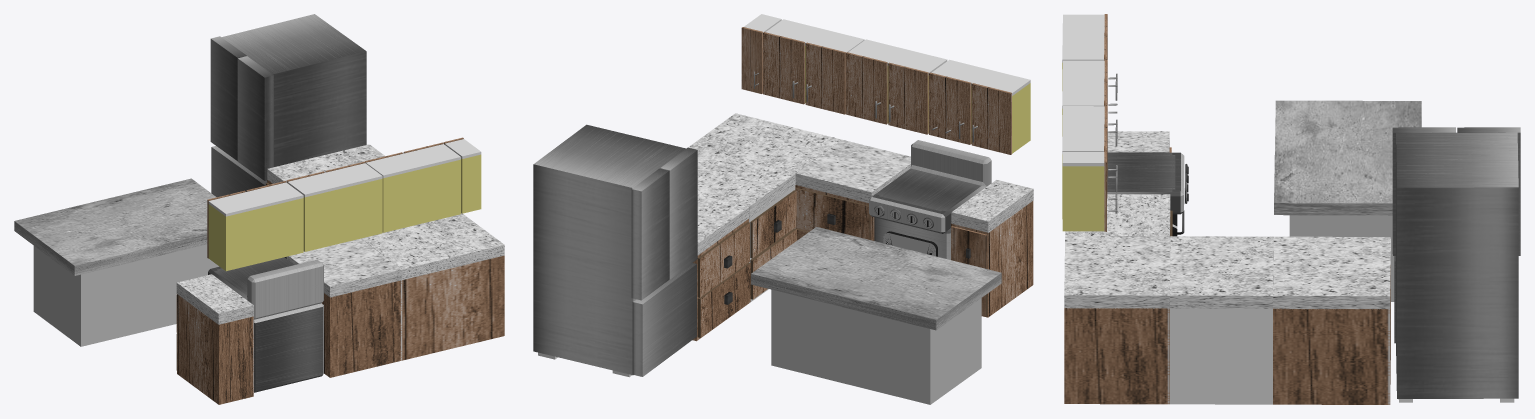
The model's file is cocina.fbx.
3 views of the same model, side by side, from view 1: azimuth 30°, elevation 25°; view 2: azimuth 150°, elevation 25°; view 3: azimuth 270°, elevation 25° (orthographic). The views are drawn at different scales.
Visible parts, largest first — view 1: Cube.029, Cube.016, Cube.014, Cube.024, Cube.012, Cube.018, Cube.030, Cube.013, Cube.048, Cube.026, Cube.056, Cube.038 (+9 smaller); view 2: Cube.029, Cube.014, Cube.016, Cube.024, Cube.013, Cube.036, Cube.037, Cube.019, Cube.007, Cube.030, Cube.038, Cube.043 (+19 smaller); view 3: Cube.029, Cube.016, Cube, Cube.012, Cube.028, Cube.001, Cube.013, Cube.007, Cube.024, Cube.019, Cube.060, Cube.014 (+7 smaller).
Part boxes in pixels (x1,y1,x2,y2): Cube.029: (221, 14, 366, 166); Cube.016: (14, 178, 216, 275); Cube.014: (33, 244, 218, 346); Cube.024: (208, 257, 323, 392); Cube.012: (402, 255, 504, 360); Cube.018: (322, 280, 402, 377); Cube.030: (177, 294, 253, 404); Cube.013: (361, 213, 504, 279); Cube.048: (208, 198, 303, 271); Cube.026: (303, 179, 382, 251); Cube.056: (382, 159, 460, 232); Cube.038: (237, 56, 273, 180); Cube.029: (533, 124, 685, 375); Cube.014: (771, 289, 981, 404); Cube.016: (751, 227, 1001, 330); Cube.024: (869, 140, 991, 259); Cube.013: (688, 113, 842, 184); Cube.036: (632, 263, 696, 376); Cube.037: (631, 168, 669, 300); Cube.019: (796, 140, 910, 202); Cube.007: (688, 147, 795, 218); Cube.030: (951, 201, 1033, 317); Cube.038: (660, 147, 697, 279); Cube.043: (845, 52, 887, 124); Cube.029: (1396, 132, 1518, 398); Cube.016: (1274, 100, 1421, 215); Cube: (1273, 265, 1390, 404); Cube.012: (1064, 308, 1169, 404); Cube.028: (1170, 308, 1272, 404); Cube.001: (1273, 236, 1390, 309); Cube.013: (1064, 236, 1170, 308); Cube.007: (1170, 236, 1273, 308); Cube.024: (1107, 152, 1184, 214); Cube.019: (1065, 194, 1170, 236); Cube.060: (1062, 166, 1104, 231); Cube.014: (1289, 215, 1394, 301).
Size of the model in its own units: 407 by 218 by 395.
